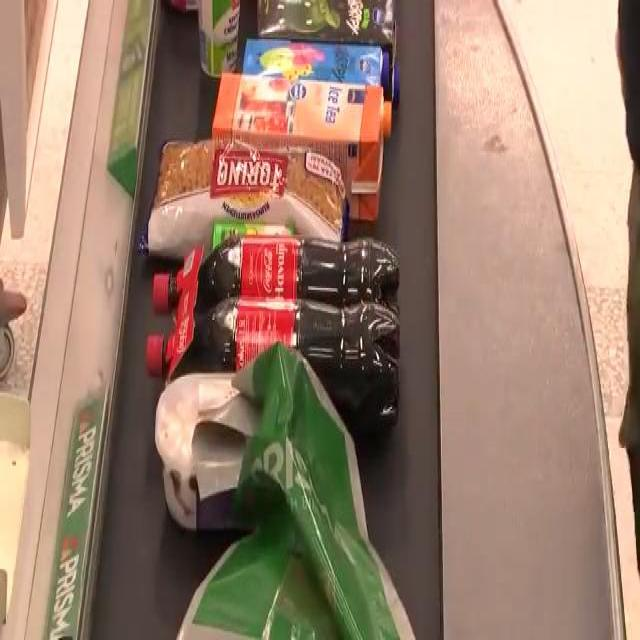beverage: (137, 294, 403, 440), (210, 68, 400, 226), (148, 225, 408, 321), (241, 28, 409, 114)
food-box: (180, 345, 411, 635), (148, 367, 382, 536), (147, 129, 348, 264), (254, 2, 406, 64), (189, 0, 245, 92)
